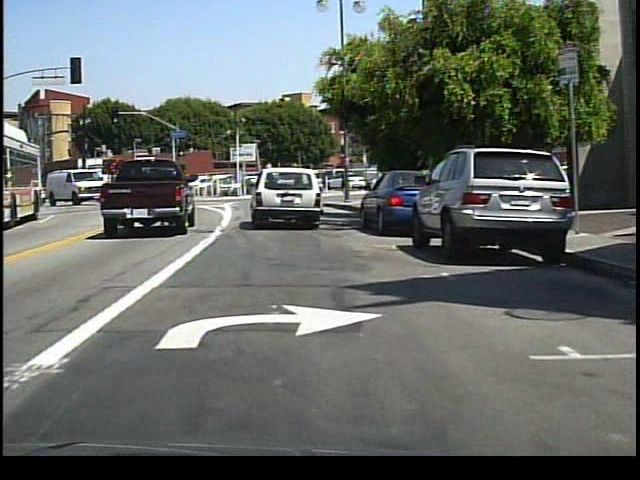person: (337, 170, 352, 200)
